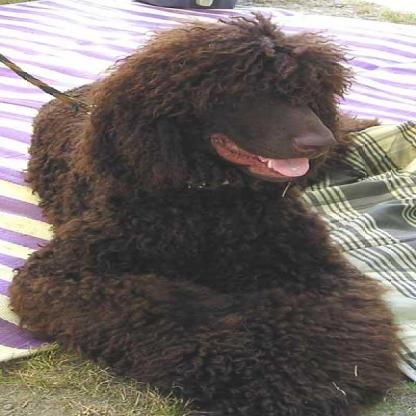Irish_water_spaniel: (6, 19, 402, 413)
